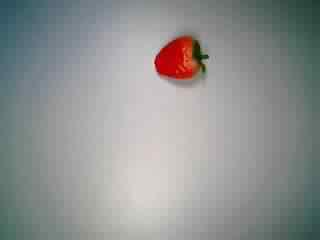strawberry: (149, 30, 215, 96)
